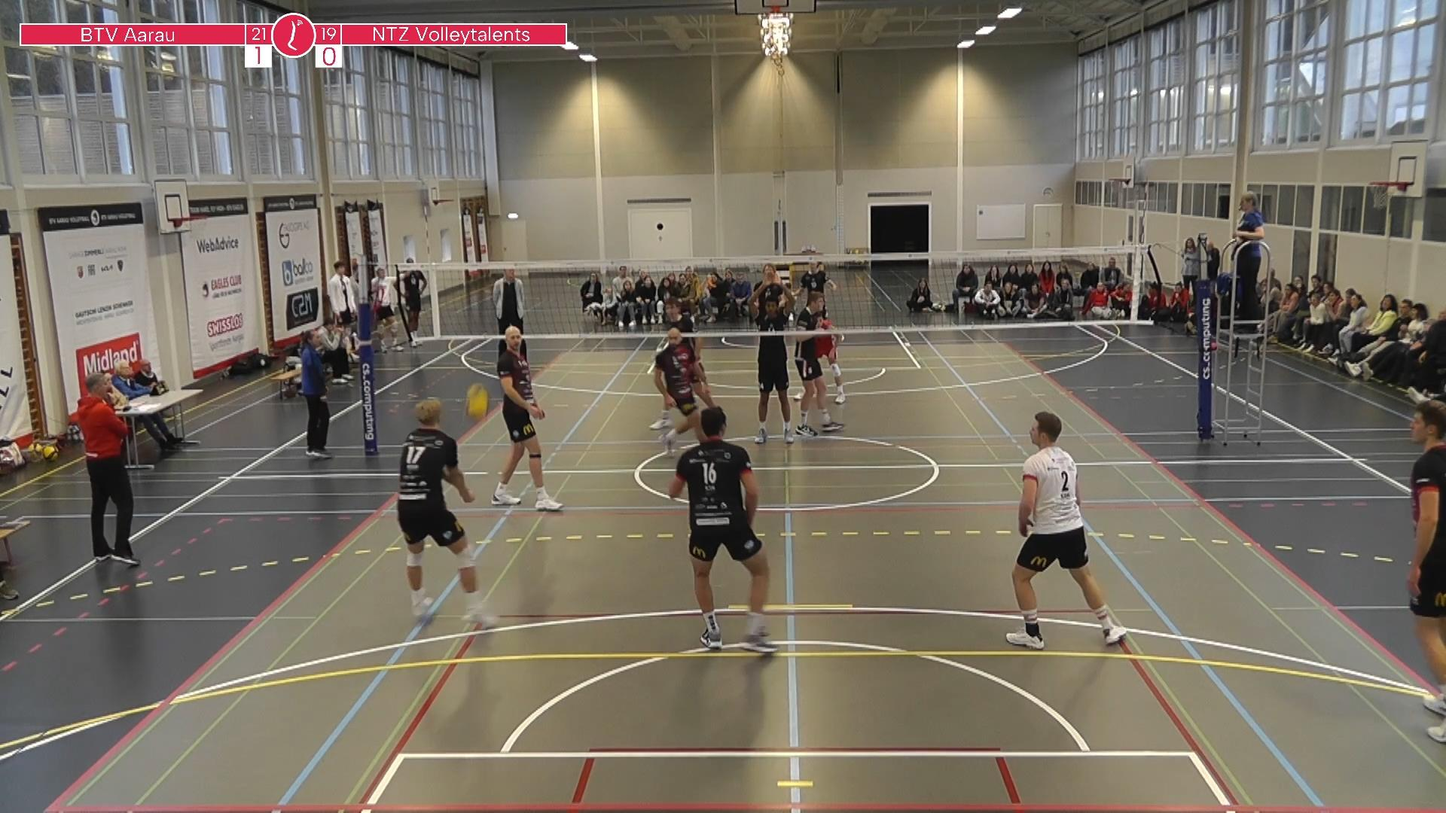Player: (1006, 412, 1126, 649), (669, 407, 776, 653), (492, 327, 562, 510), (1407, 400, 1445, 715), (752, 285, 794, 443), (654, 328, 698, 454), (664, 300, 715, 406), (795, 335, 842, 436), (819, 333, 846, 404), (755, 263, 791, 300), (800, 261, 837, 294)
Receive: (389, 404, 496, 629)
ball: (463, 380, 493, 420)
